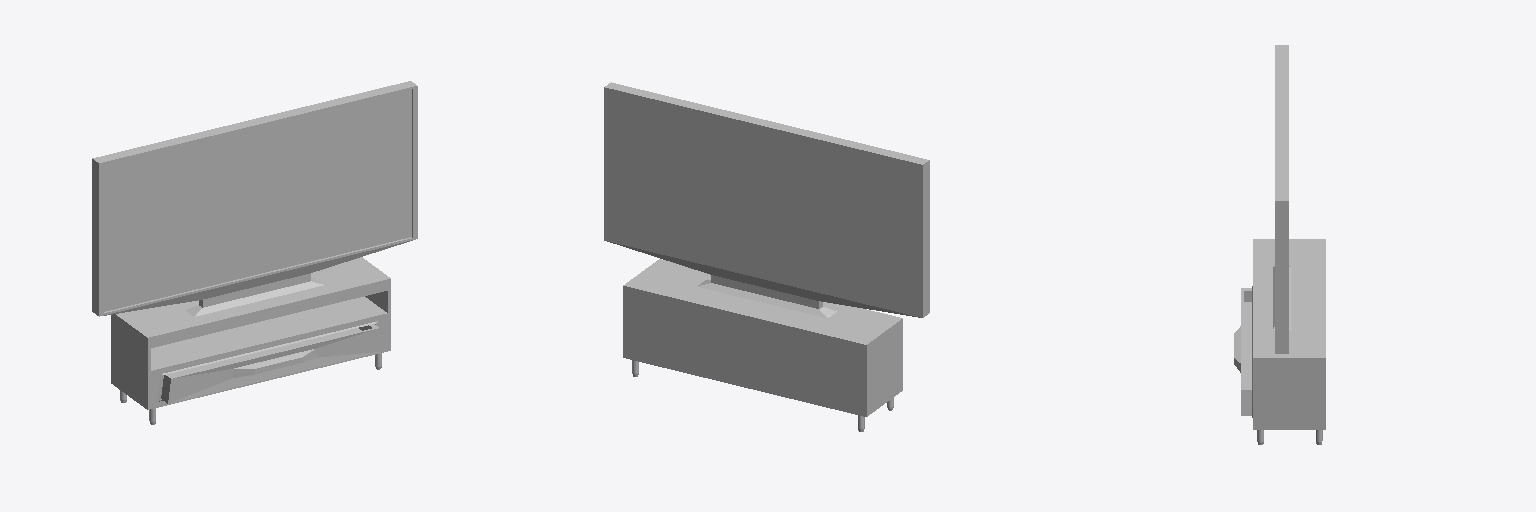
The model's file is TvOnStand.obj.
3 renders of one model, left to right at view 1: azimuth 30°, elevation 25°; view 2: azimuth 150°, elevation 25°; view 3: azimuth 270°, elevation 25°, orthographic.
Visible parts, largest first — view 1: Tv_Cube.006, TvStand_Cube.005; view 2: Tv_Cube.006, TvStand_Cube.005; view 3: TvStand_Cube.005, Tv_Cube.006.
Part boxes in pixels (x1,y1,x2,y2): Tv_Cube.006: (92,81,417,316); TvStand_Cube.005: (111,257,390,424); Tv_Cube.006: (604,82,929,318); TvStand_Cube.005: (623,259,902,431); TvStand_Cube.005: (1234,239,1325,444); Tv_Cube.006: (1273,45,1291,353).
Size of the model in its own units: 10.05 by 8.02 by 2.53.